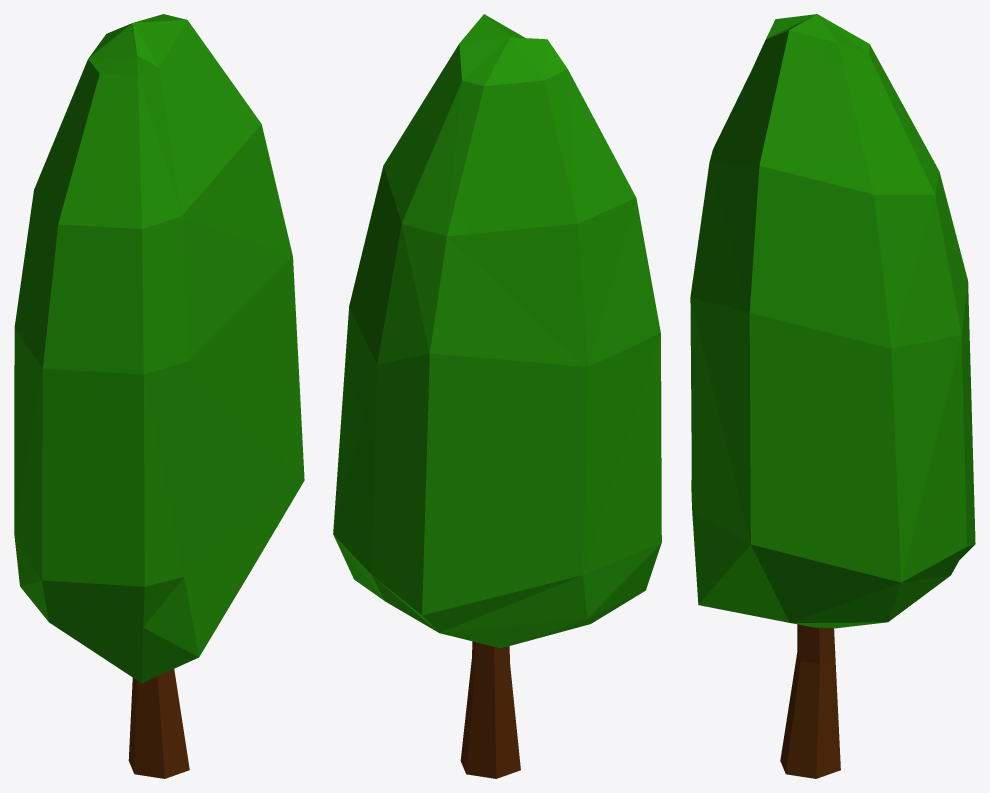
File: Tree_temp_climate_014.FBX
3 views of the same model, side by side, from view 1: azimuth 30°, elevation 25°; view 2: azimuth 150°, elevation 25°; view 3: azimuth 270°, elevation 25° (orthographic).
Visible parts, largest first — view 1: Tree_temp_climate_014; view 2: Tree_temp_climate_014; view 3: Tree_temp_climate_014.
Part boxes in pixels (bbox=[...]): Tree_temp_climate_014: bbox=[14, 14, 304, 778]; Tree_temp_climate_014: bbox=[333, 14, 661, 778]; Tree_temp_climate_014: bbox=[690, 14, 975, 778].
Size of the model in its own units: 191 by 525 by 182.
